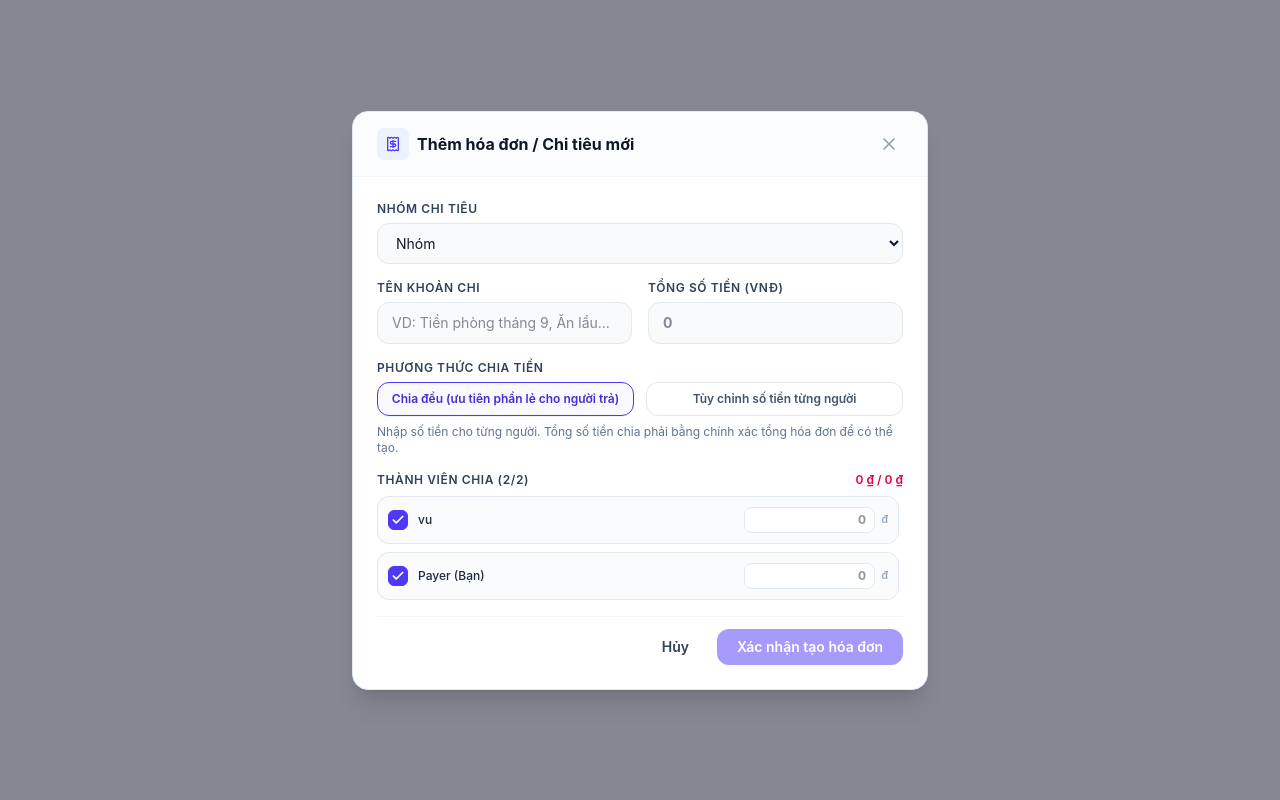
Test: changing total or selection recalculates custom shares
The width and height of the screenshot is (1280, 800).
Expected: the text "vu" is shown, [418,512,432,528]
In the field named "Tổng số tiền": point(776, 322) [648,302,903,344], type "111111"
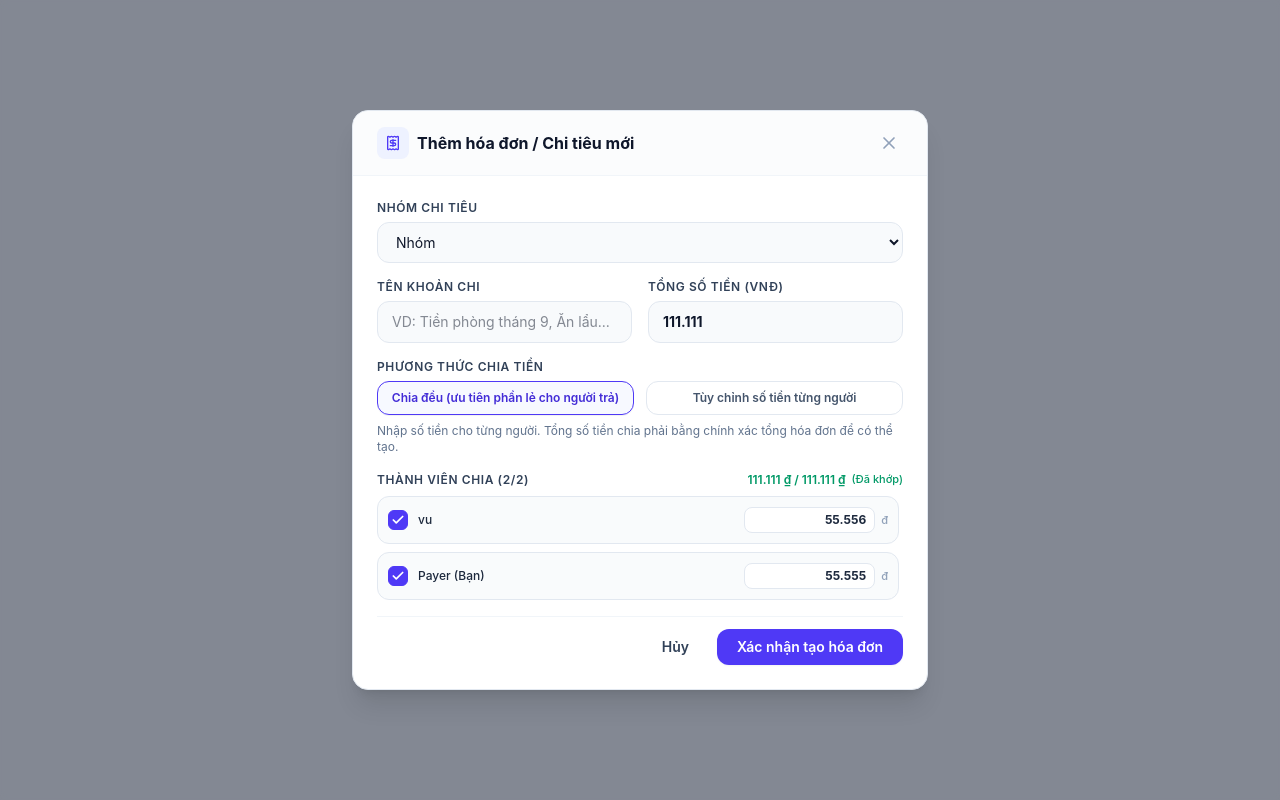
Click the button "Tùy chỉnh số tiền từng người": point(774, 398) [646,381,903,415]
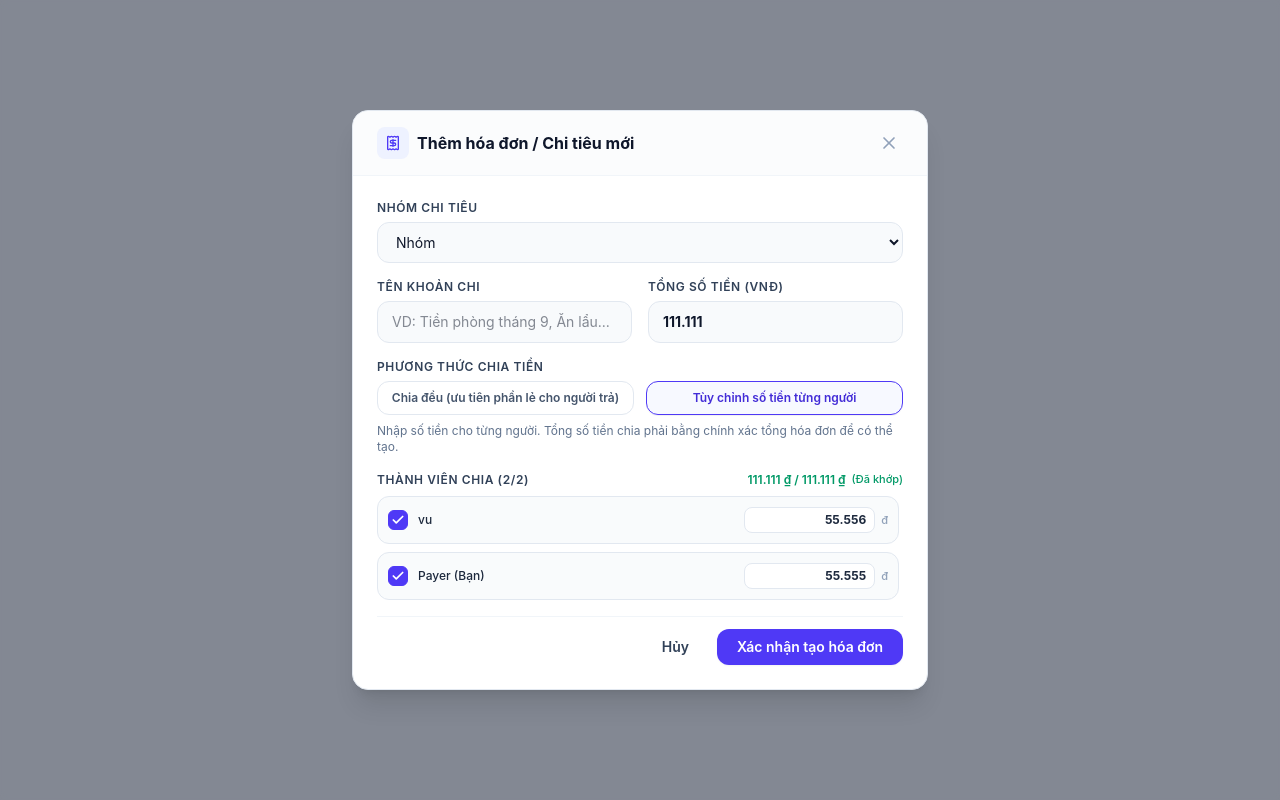
Replace the text in the field named "Tổng số tiền" with "100001": point(776, 322) [648,301,903,343]
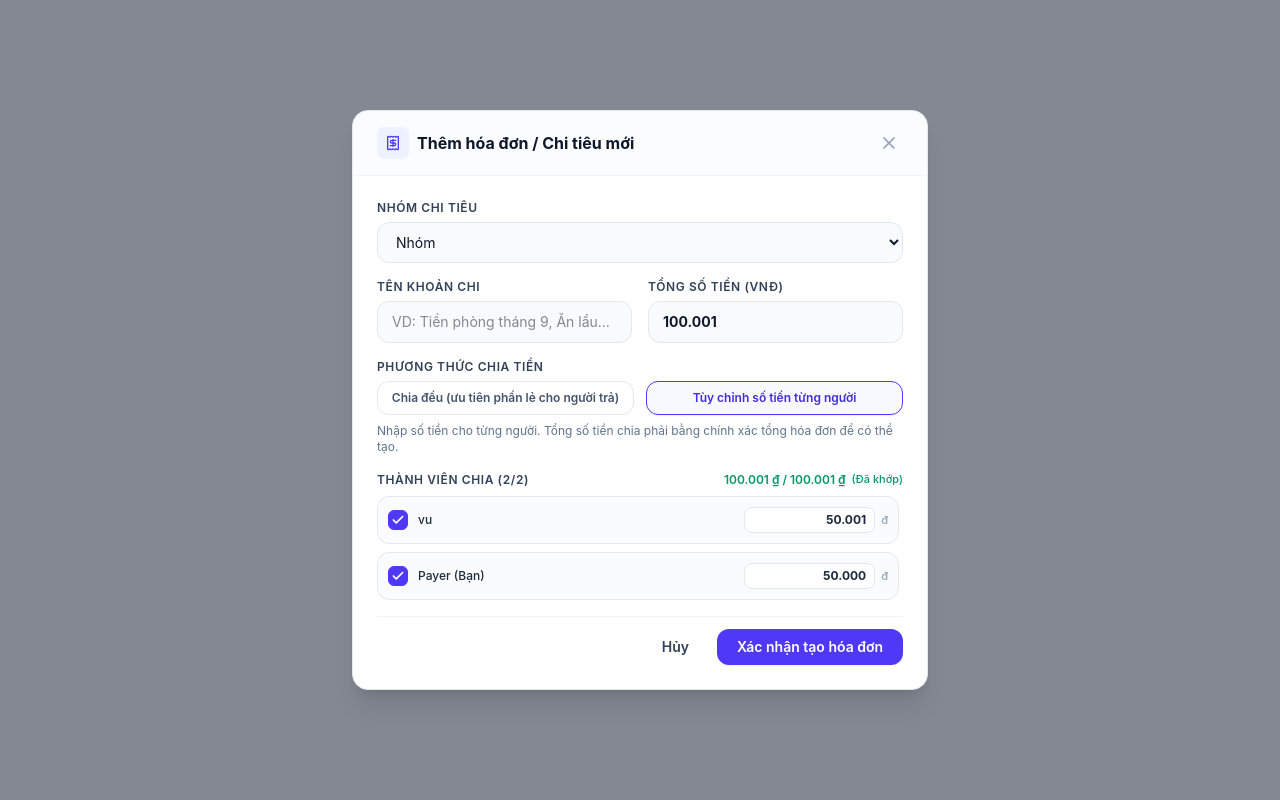
Expected: the field named "Số tiền của vu" holds "50.001", [744,507,875,533]
Expected: the field named "Số tiền của Payer" holds "50.000", [744,563,875,589]
Click the text "vu": point(425, 520) [418,512,432,528]
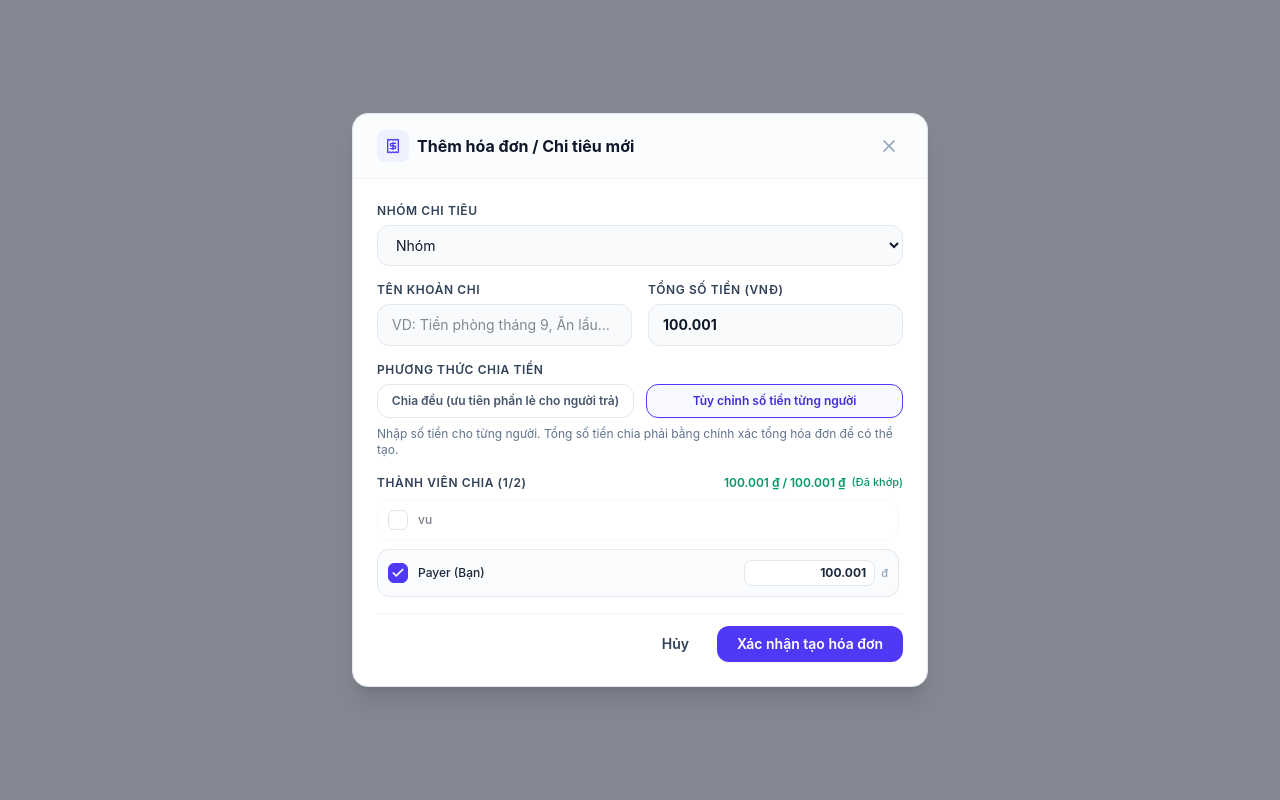
Expected: the field named "Số tiền của Payer" holds "100.001", [744,560,875,586]
